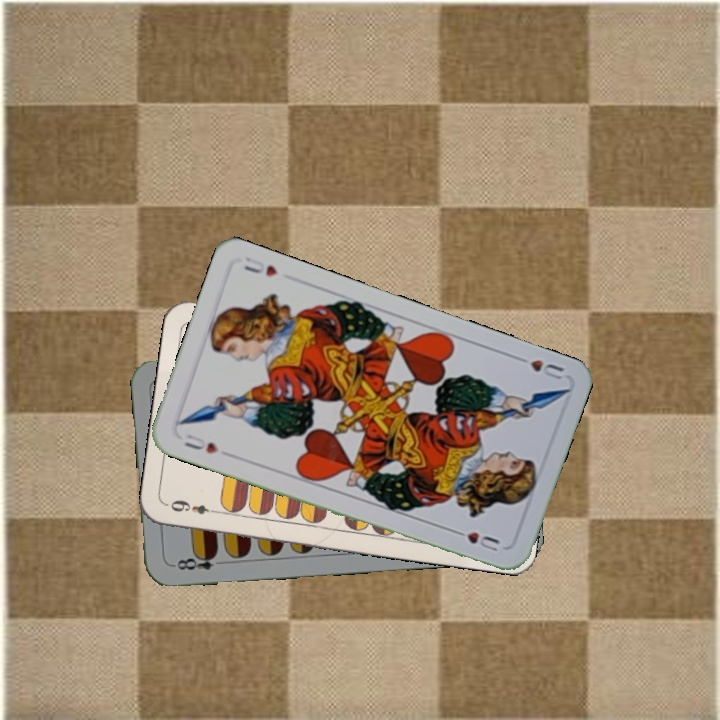E8: (169, 548, 220, 573)
E9: (163, 495, 222, 517)
HU: (510, 351, 567, 383), (180, 429, 221, 457)
